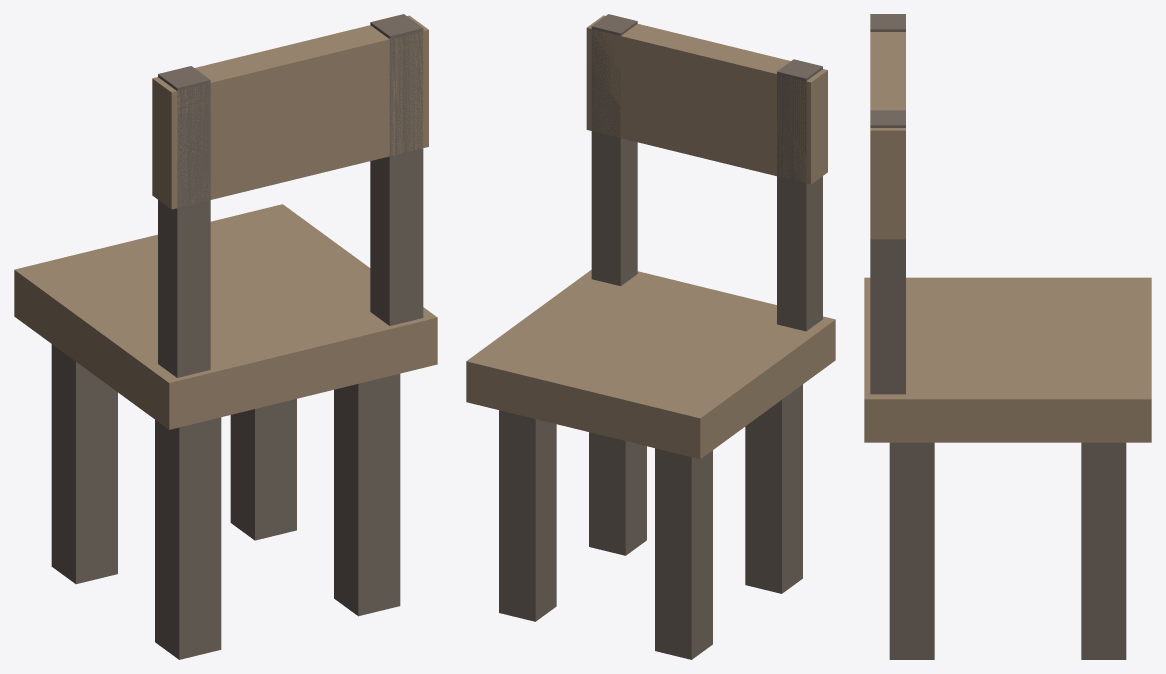
Rendered from chair_apartment.glb.
3 renders of one model, left to right at view 1: azimuth 30°, elevation 25°; view 2: azimuth 150°, elevation 25°; view 3: azimuth 270°, elevation 25°, orthographic. The views are drawn at different scales.
Parts seen in each view (by area): view 1: body; view 2: body; view 3: body.
Part boxes in pixels (x1,y1,x2,y2): body: [14, 14, 437, 659]; body: [466, 14, 835, 659]; body: [864, 14, 1151, 659].
Bounding box in the file's own units: 0.48 × 0.995 × 0.48.
